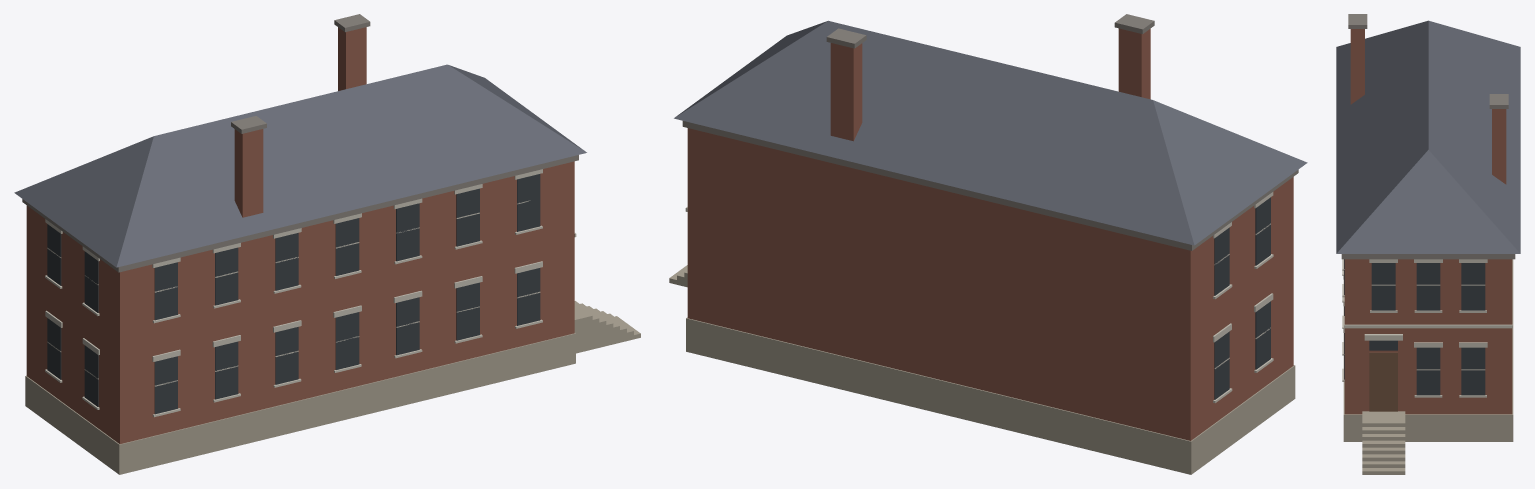
File: house_1600_prairie__draft_1904.glb
The picture shows the model from 3 angles, left to right: view 1: azimuth 30°, elevation 25°; view 2: azimuth 150°, elevation 25°; view 3: azimuth 270°, elevation 25°; orthographic projection. The views are drawn at different scales.
Visible parts, largest first — view 1: house_1600_prairie__draft_1904; view 2: house_1600_prairie__draft_1904; view 3: house_1600_prairie__draft_1904.
Part boxes in pixels (box(x1,y1,x2,y2)): house_1600_prairie__draft_1904: box(14, 14, 640, 474); house_1600_prairie__draft_1904: box(669, 14, 1307, 474); house_1600_prairie__draft_1904: box(1336, 14, 1520, 474).
Size of the model in its own units: 23.4 by 12.99 by 7.7.
